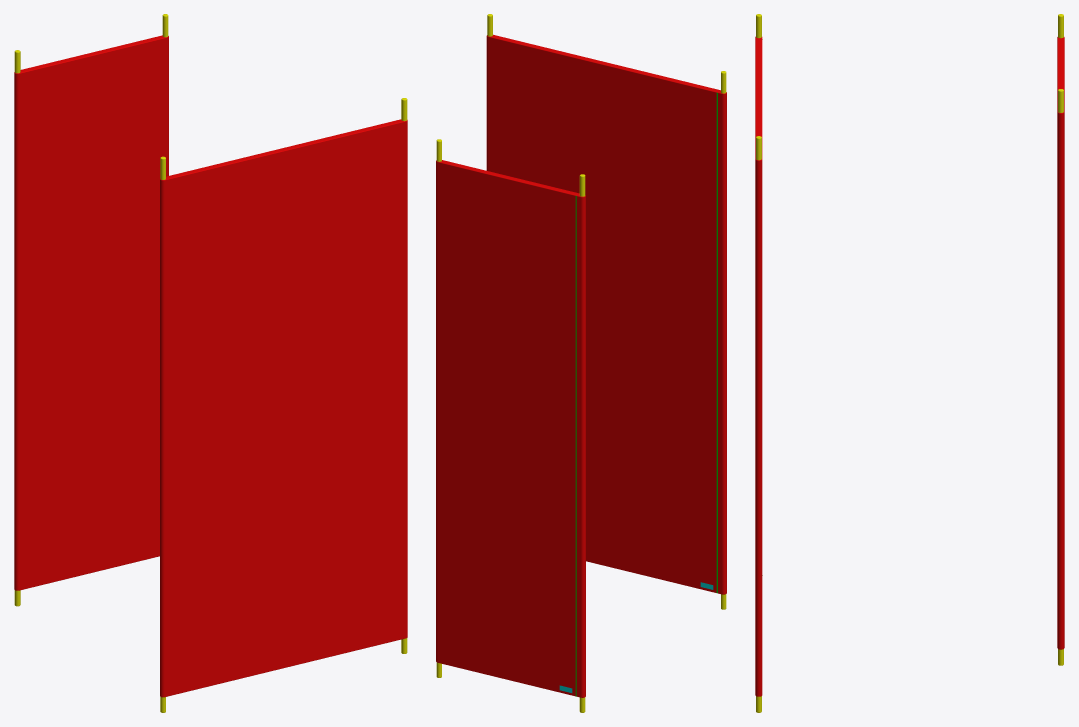
File: wall_panels_grp.fbx
3 renders of one model, left to right at view 1: azimuth 30°, elevation 25°; view 2: azimuth 150°, elevation 25°; view 3: azimuth 270°, elevation 25°, orthographic. The views are drawn at different scales.
Visible parts, largest first — view 1: wall_panel_32_5, wall_panel_24; view 2: wall_panel_32_5, wall_panel_24; view 3: wall_panel_32_5, wall_panel_24.
Boxes of the visible parts, box(x1,y1,x2,y2) form: wall_panel_32_5: box(160, 98, 407, 712); wall_panel_24: box(14, 14, 168, 606); wall_panel_32_5: box(486, 14, 726, 609); wall_panel_24: box(436, 139, 585, 712); wall_panel_32_5: box(755, 14, 762, 712); wall_panel_24: box(1057, 14, 1064, 665).
Size of the model in its own units: 97.96 by 210 by 102.
